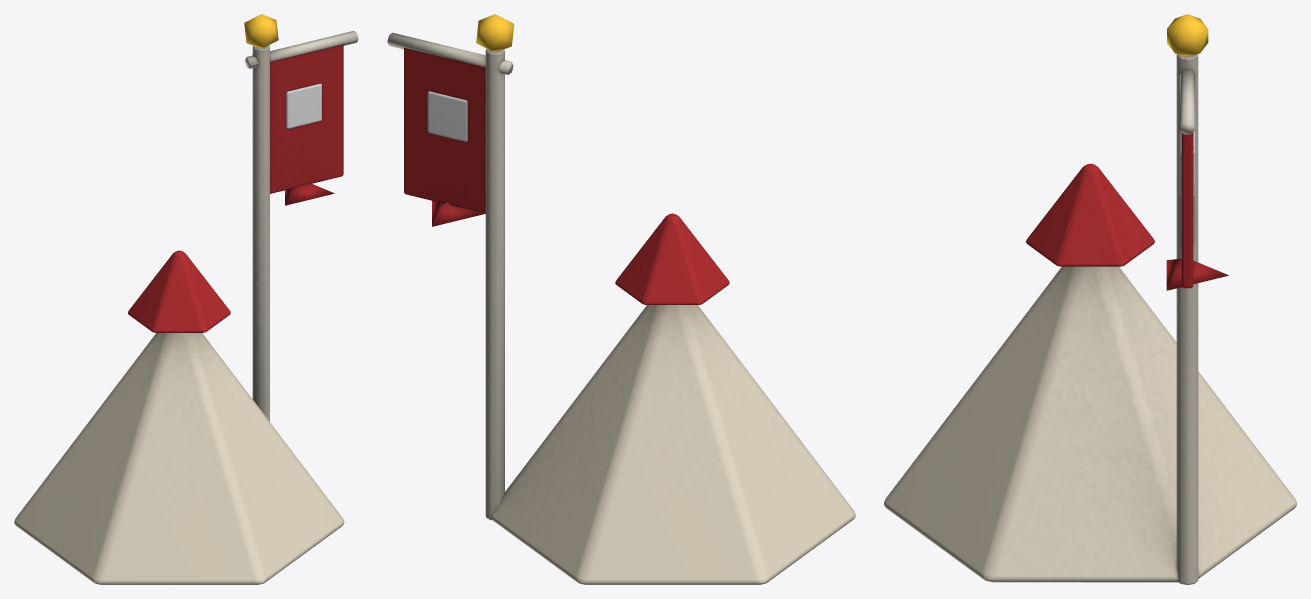
Rendered from tent_red.glb.
3 views of the same model, side by side, from view 1: azimuth 30°, elevation 25°; view 2: azimuth 150°, elevation 25°; view 3: azimuth 270°, elevation 25° (orthographic). The views are drawn at different scales.
Parts seen in each view (by area): view 1: tent; view 2: tent; view 3: tent.
Boxes of the visible parts, x1,y1,x2,y2 form: tent: (14,14,358,584); tent: (387,14,855,584); tent: (884,14,1296,584).
Size of the model in its own units: 0.5065 by 0.645 by 0.4254.
2 materials, 1 textured.
